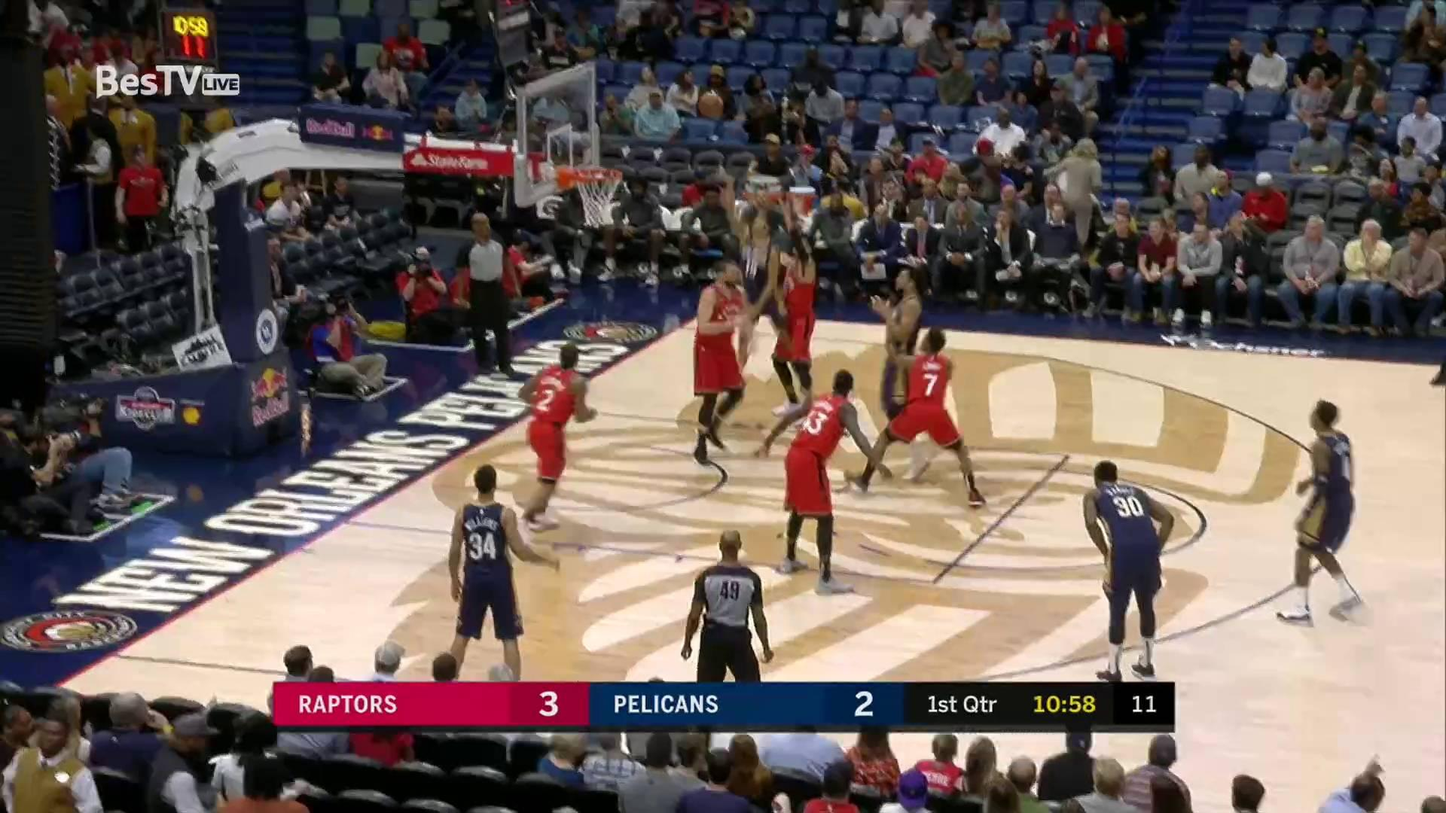basketball: (699, 90, 726, 120)
